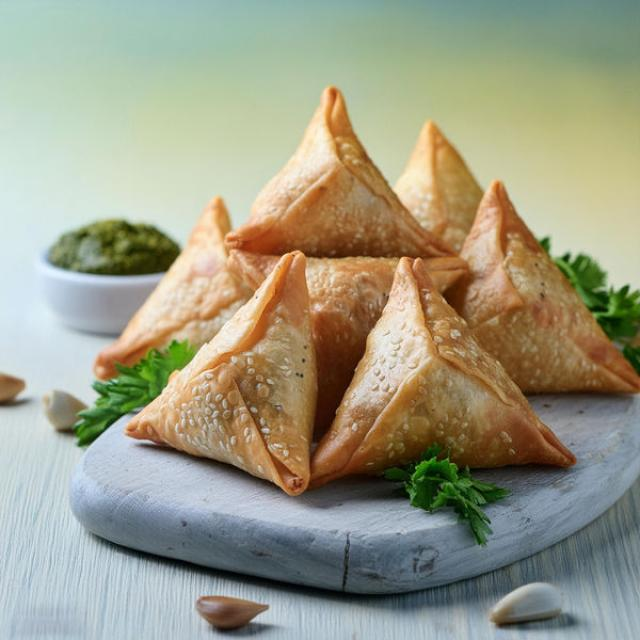SAMOSA: (89, 74, 639, 496)
